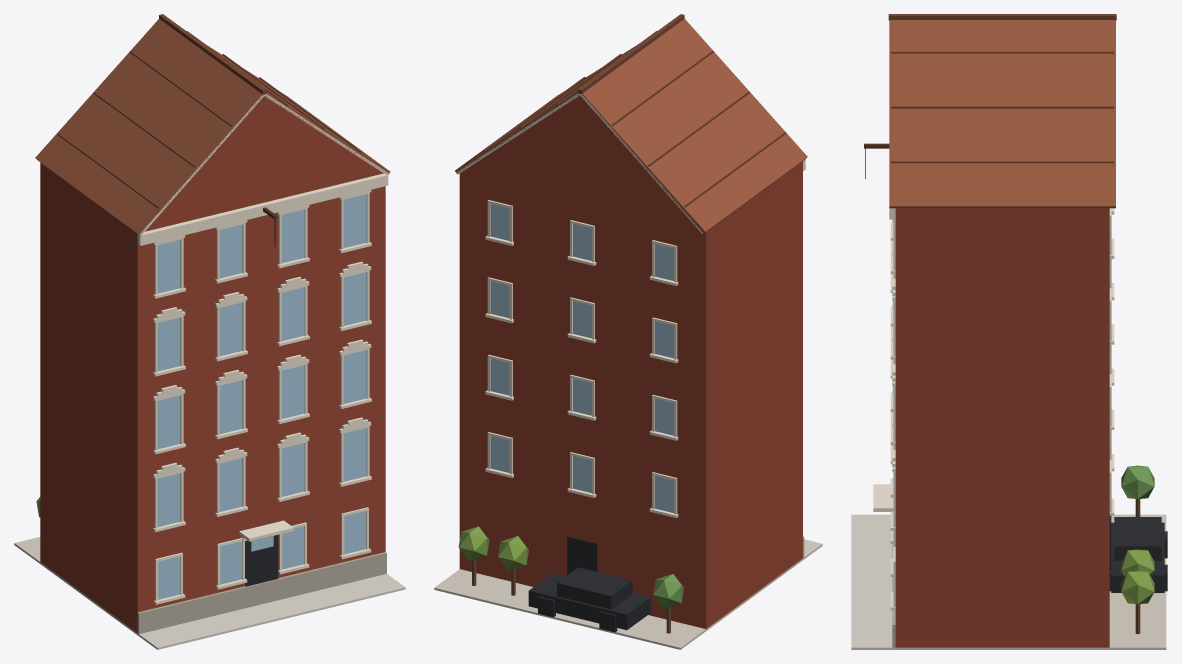
File: Blok_duz_5k_5_Hafif.fbx
3 renders of one model, left to right at view 1: azimuth 30°, elevation 25°; view 2: azimuth 150°, elevation 25°; view 3: azimuth 270°, elevation 25°, orthographic. The views are drawn at different scales.
Parts seen in each view (by area): view 1: Blok_duz_5k_5_Hafif; view 2: Blok_duz_5k_5_Hafif; view 3: Blok_duz_5k_5_Hafif.
Part boxes in pixels (x1,y1,x2,y2): Blok_duz_5k_5_Hafif: (14, 14, 405, 649); Blok_duz_5k_5_Hafif: (434, 14, 822, 649); Blok_duz_5k_5_Hafif: (851, 14, 1167, 649).
Bounding box in the file's own units: 10.18 × 19.92 × 10.04.
